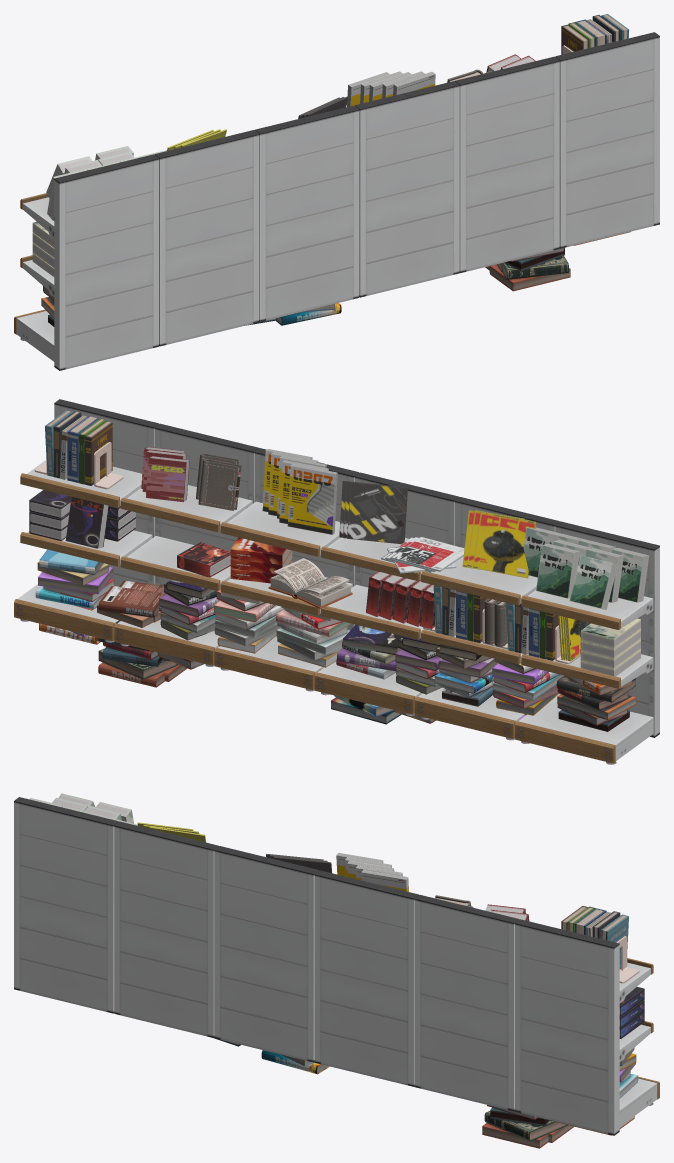
File: Market_08.obj
3 views of the same model, one above another, from view 1: azimuth 30°, elevation 25°; view 2: azimuth 150°, elevation 25°; view 3: azimuth 330°, elevation 25° (orthographic).
Size of the model in its own units: 5.99 by 2.26 by 0.8145.
79 materials, 79 textured.
